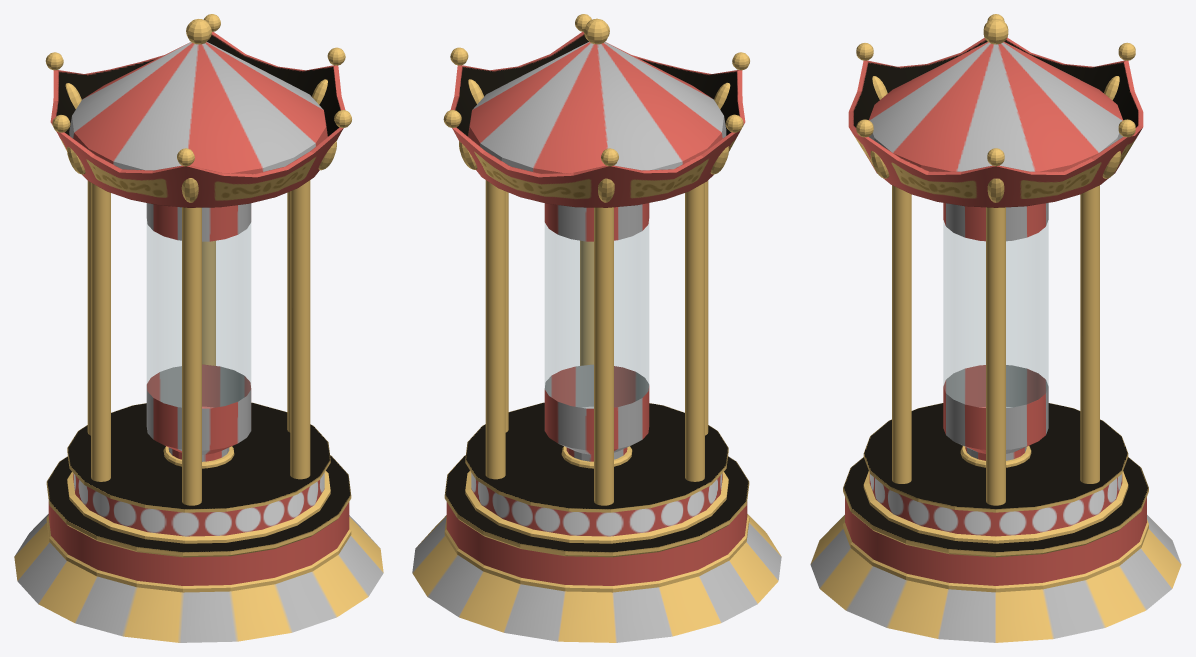
Rendered from Giostra.fbx.
3 renders of one model, left to right at view 1: azimuth 30°, elevation 25°; view 2: azimuth 150°, elevation 25°; view 3: azimuth 270°, elevation 25°, orthographic.
Visible parts, largest first — view 1: Cupola, Sopra_sopra_base, Pali, Base, Sopra_base, Capsula_vetro, Corona, Capsula, Palline, Medaglioni, Pennacchio; view 2: Cupola, Sopra_sopra_base, Pali, Base, Sopra_base, Capsula_vetro, Corona, Capsula, Palline, Medaglioni, Pennacchio; view 3: Cupola, Sopra_sopra_base, Base, Pali, Sopra_base, Capsula_vetro, Corona, Capsula, Palline, Medaglioni, Pennacchio.
Boxes of the visible parts, box(x1,y1,x2,y2) form: Cupola: box(69, 42, 327, 173); Sopra_sopra_base: box(67, 402, 330, 543); Pali: box(87, 180, 310, 505); Base: box(14, 514, 383, 642); Sopra_base: box(46, 455, 351, 592); Capsula_vetro: box(147, 224, 250, 408); Corona: box(50, 32, 345, 207); Capsula: box(146, 203, 251, 468); Palline: box(45, 14, 351, 166); Medaglioni: box(65, 79, 336, 202); Pennacchio: box(186, 19, 211, 44); Cupola: box(468, 42, 726, 173); Sopra_sopra_base: box(465, 402, 728, 543); Pali: box(485, 180, 708, 505); Base: box(412, 514, 781, 642); Sopra_base: box(444, 455, 749, 592); Capsula_vetro: box(545, 223, 648, 408); Corona: box(450, 32, 745, 207); Capsula: box(544, 203, 649, 468); Palline: box(443, 14, 749, 166); Medaglioni: box(459, 79, 730, 202); Pennacchio: box(584, 18, 609, 44); Cupola: box(869, 42, 1123, 171); Sopra_sopra_base: box(863, 403, 1128, 543); Base: box(810, 515, 1181, 642); Pali: box(892, 185, 1099, 505); Sopra_base: box(843, 457, 1148, 592); Capsula_vetro: box(943, 221, 1048, 407); Corona: box(848, 38, 1143, 207); Capsula: box(943, 203, 1048, 467); Palline: box(856, 14, 1135, 166); Medaglioni: box(870, 76, 1120, 202); Pennacchio: box(983, 18, 1008, 44).
Size of the model in its own units: 3.72 by 6.02 by 3.72.
Materials: 2 (1 with a texture image).
